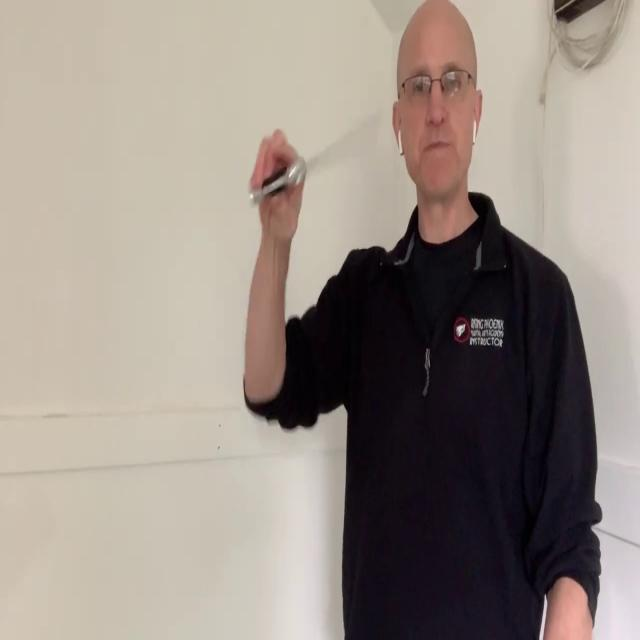Knife_Handle: (250, 112, 380, 239)
